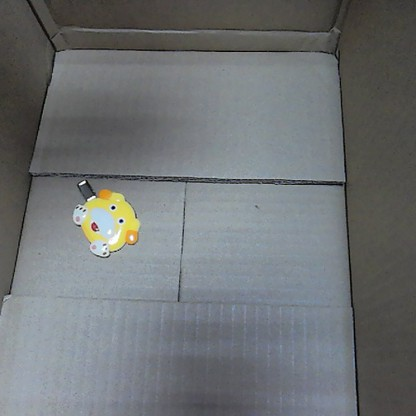dogclip: (67, 176, 141, 259)
